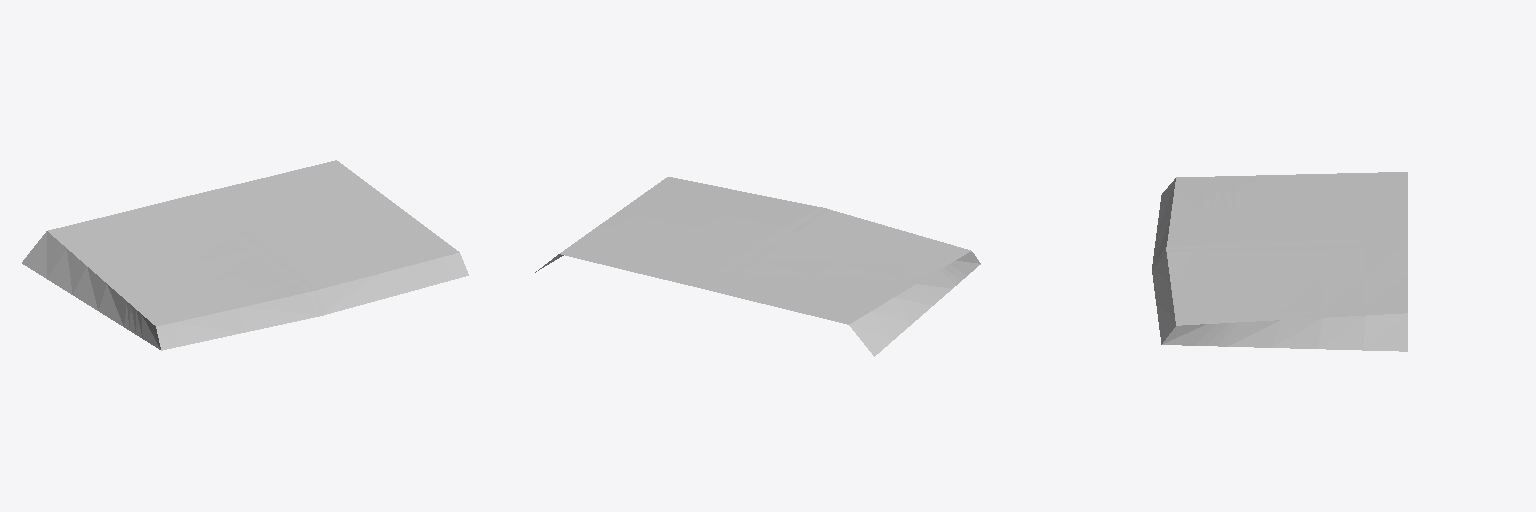
File: jeepcofre.obj
3 renders of one model, left to right at view 1: azimuth 30°, elevation 25°; view 2: azimuth 150°, elevation 25°; view 3: azimuth 270°, elevation 25°, orthographic.
Parts seen in each view (by area): view 1: Body_Cube.001; view 2: Body_Cube.001; view 3: Body_Cube.001.
Boxes of the visible parts, x1=… form: Body_Cube.001: x1=22, y1=160, x2=468, y2=350; Body_Cube.001: x1=535, y1=177, x2=980, y2=356; Body_Cube.001: x1=1152, y1=172, x2=1407, y2=351.
Bounding box in the file's own units: 2.9 × 0.2248 × 1.89.